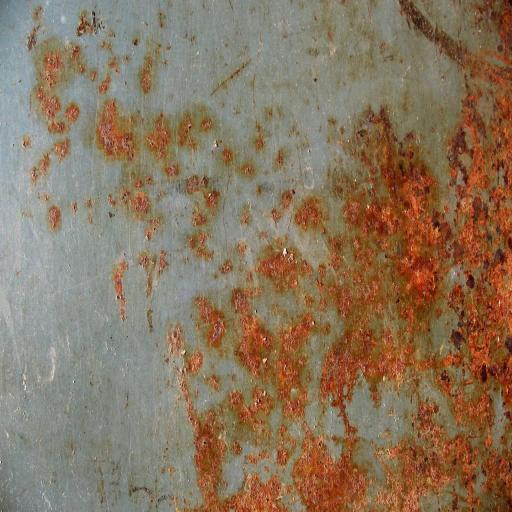segmentation: (0, 0, 512, 511)
